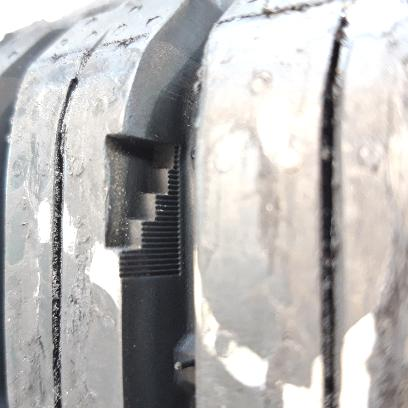temoin:100: (101, 130, 186, 281)
